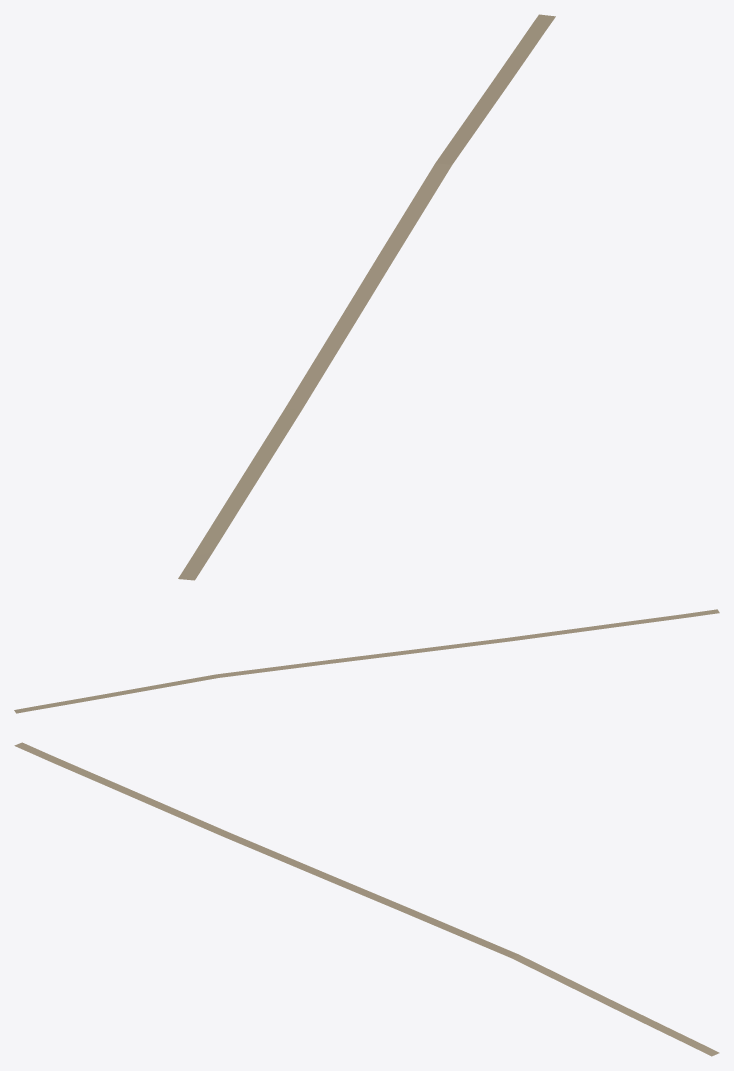
The model's file is farm_-23_-24_track.glb.
The picture shows the model from 3 angles, top to bottom: view 1: azimuth 30°, elevation 25°; view 2: azimuth 150°, elevation 25°; view 3: azimuth 270°, elevation 25°; orthographic projection. The views are drawn at different scales.
Parts seen in each view (by area): view 1: geometry_0; view 2: geometry_0; view 3: geometry_0.
Boxes of the visible parts, bbox=[...] form: geometry_0: bbox=[178, 14, 555, 580]; geometry_0: bbox=[14, 609, 719, 713]; geometry_0: bbox=[14, 742, 719, 1056].
Bounding box in the file's own units: 192 × 7.08 × 197.
